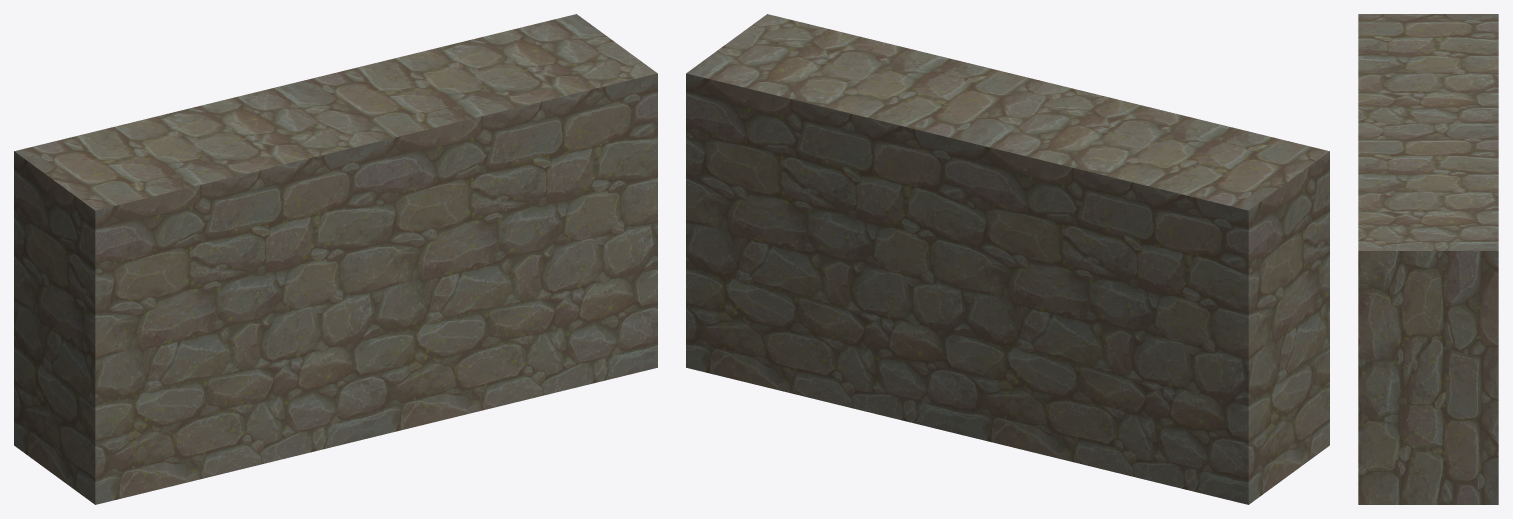
File: MSH_fwOF_Ruins_Wall_Low_01.fbx
3 renders of one model, left to right at view 1: azimuth 30°, elevation 25°; view 2: azimuth 150°, elevation 25°; view 3: azimuth 270°, elevation 25°, orthographic. The views are drawn at different scales.
Visible parts, largest first — view 1: MSH_fwOF_Ruins_Wall_Low_01; view 2: MSH_fwOF_Ruins_Wall_Low_01; view 3: MSH_fwOF_Ruins_Wall_Low_01.
Part boxes in pixels (<box>): MSH_fwOF_Ruins_Wall_Low_01: <box>14,14,657,504</box>; MSH_fwOF_Ruins_Wall_Low_01: <box>686,14,1329,504</box>; MSH_fwOF_Ruins_Wall_Low_01: <box>1358,14,1498,504</box>.
Bounding box in the file's own units: 4 × 2 × 1.
